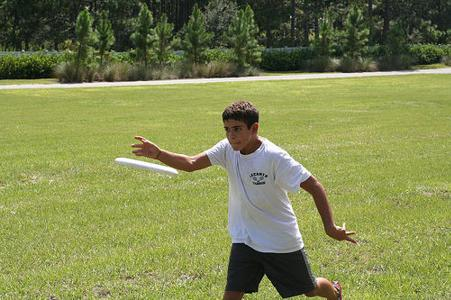person: (131, 102, 359, 300)
